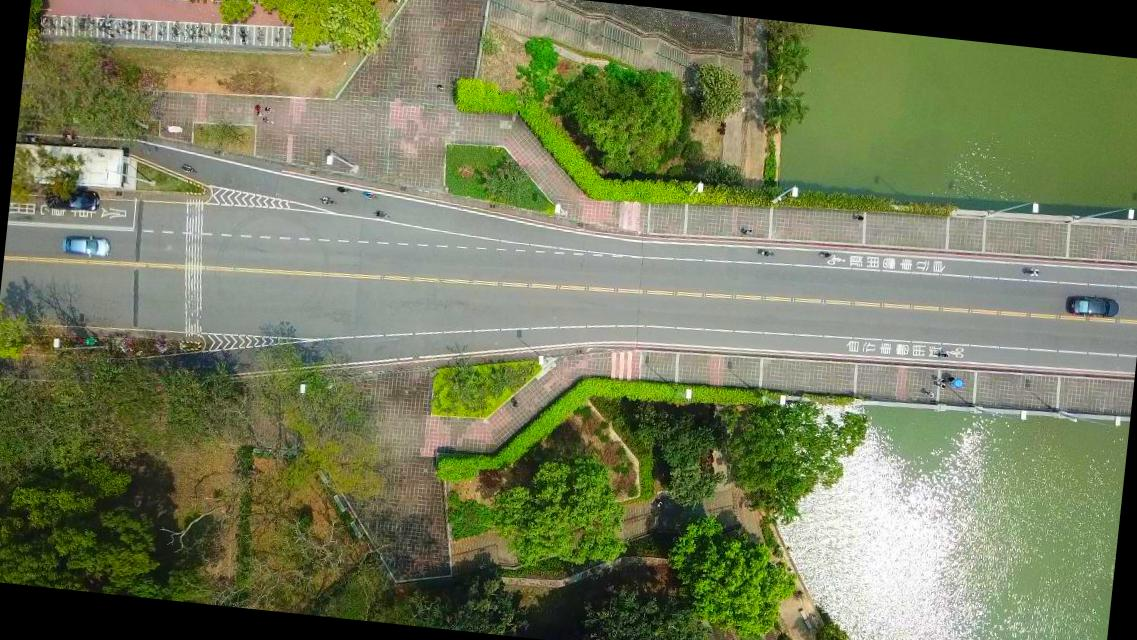vehicle: (44, 186, 100, 214), (1068, 292, 1118, 320), (61, 232, 111, 260)
